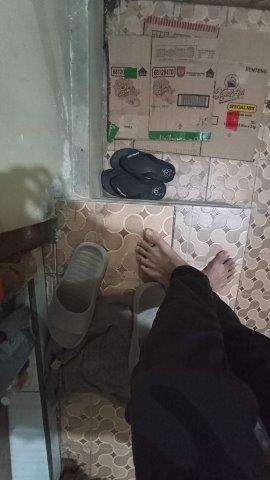kardus: (110, 17, 270, 159)
